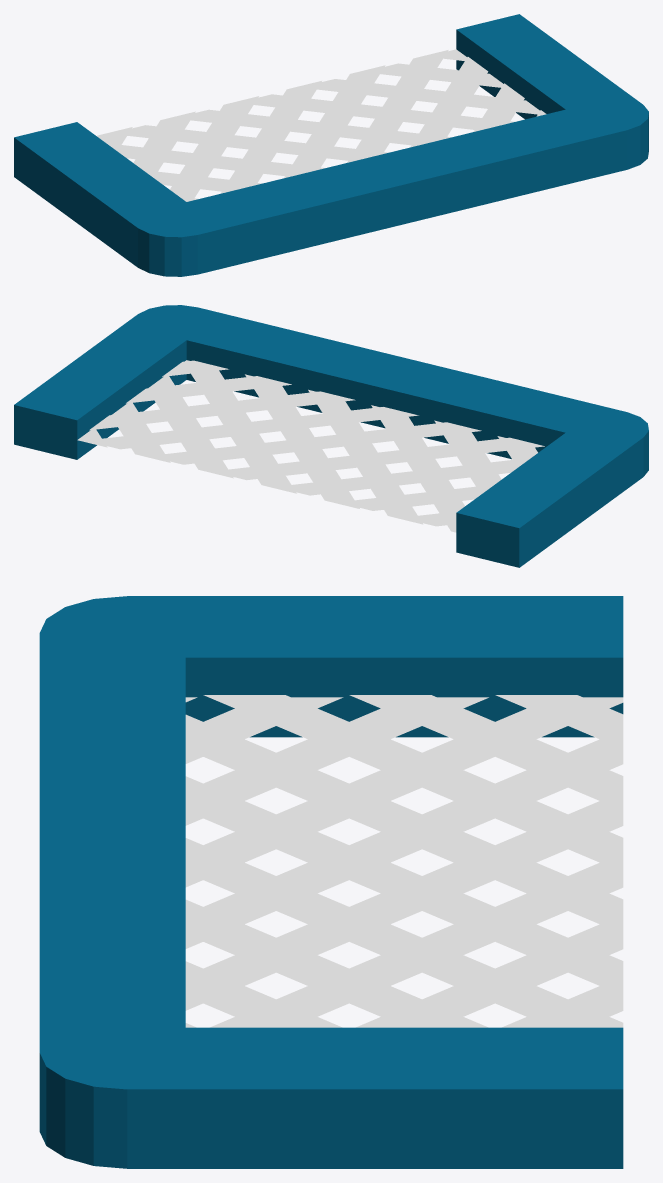
File: G02_027_Floor_Mesh_A.fbx
3 renders of one model, top to bottom at view 1: azimuth 30°, elevation 25°; view 2: azimuth 150°, elevation 25°; view 3: azimuth 270°, elevation 25°, orthographic. The views are drawn at different scales.
Visible parts, largest first — view 1: 011_Mesh_A_B, 平面.037; view 2: 011_Mesh_A_B, 平面.037; view 3: 011_Mesh_A_B, 平面.037.
Part boxes in pixels (bbox=[...]): 011_Mesh_A_B: bbox=[14, 14, 648, 276]; 平面.037: bbox=[97, 49, 546, 201]; 011_Mesh_A_B: bbox=[14, 305, 648, 567]; 平面.037: bbox=[77, 360, 544, 532]; 011_Mesh_A_B: bbox=[39, 596, 623, 1168]; 平面.037: bbox=[185, 695, 623, 1027].
Size of the model in its own units: 400 by 30 by 200.
